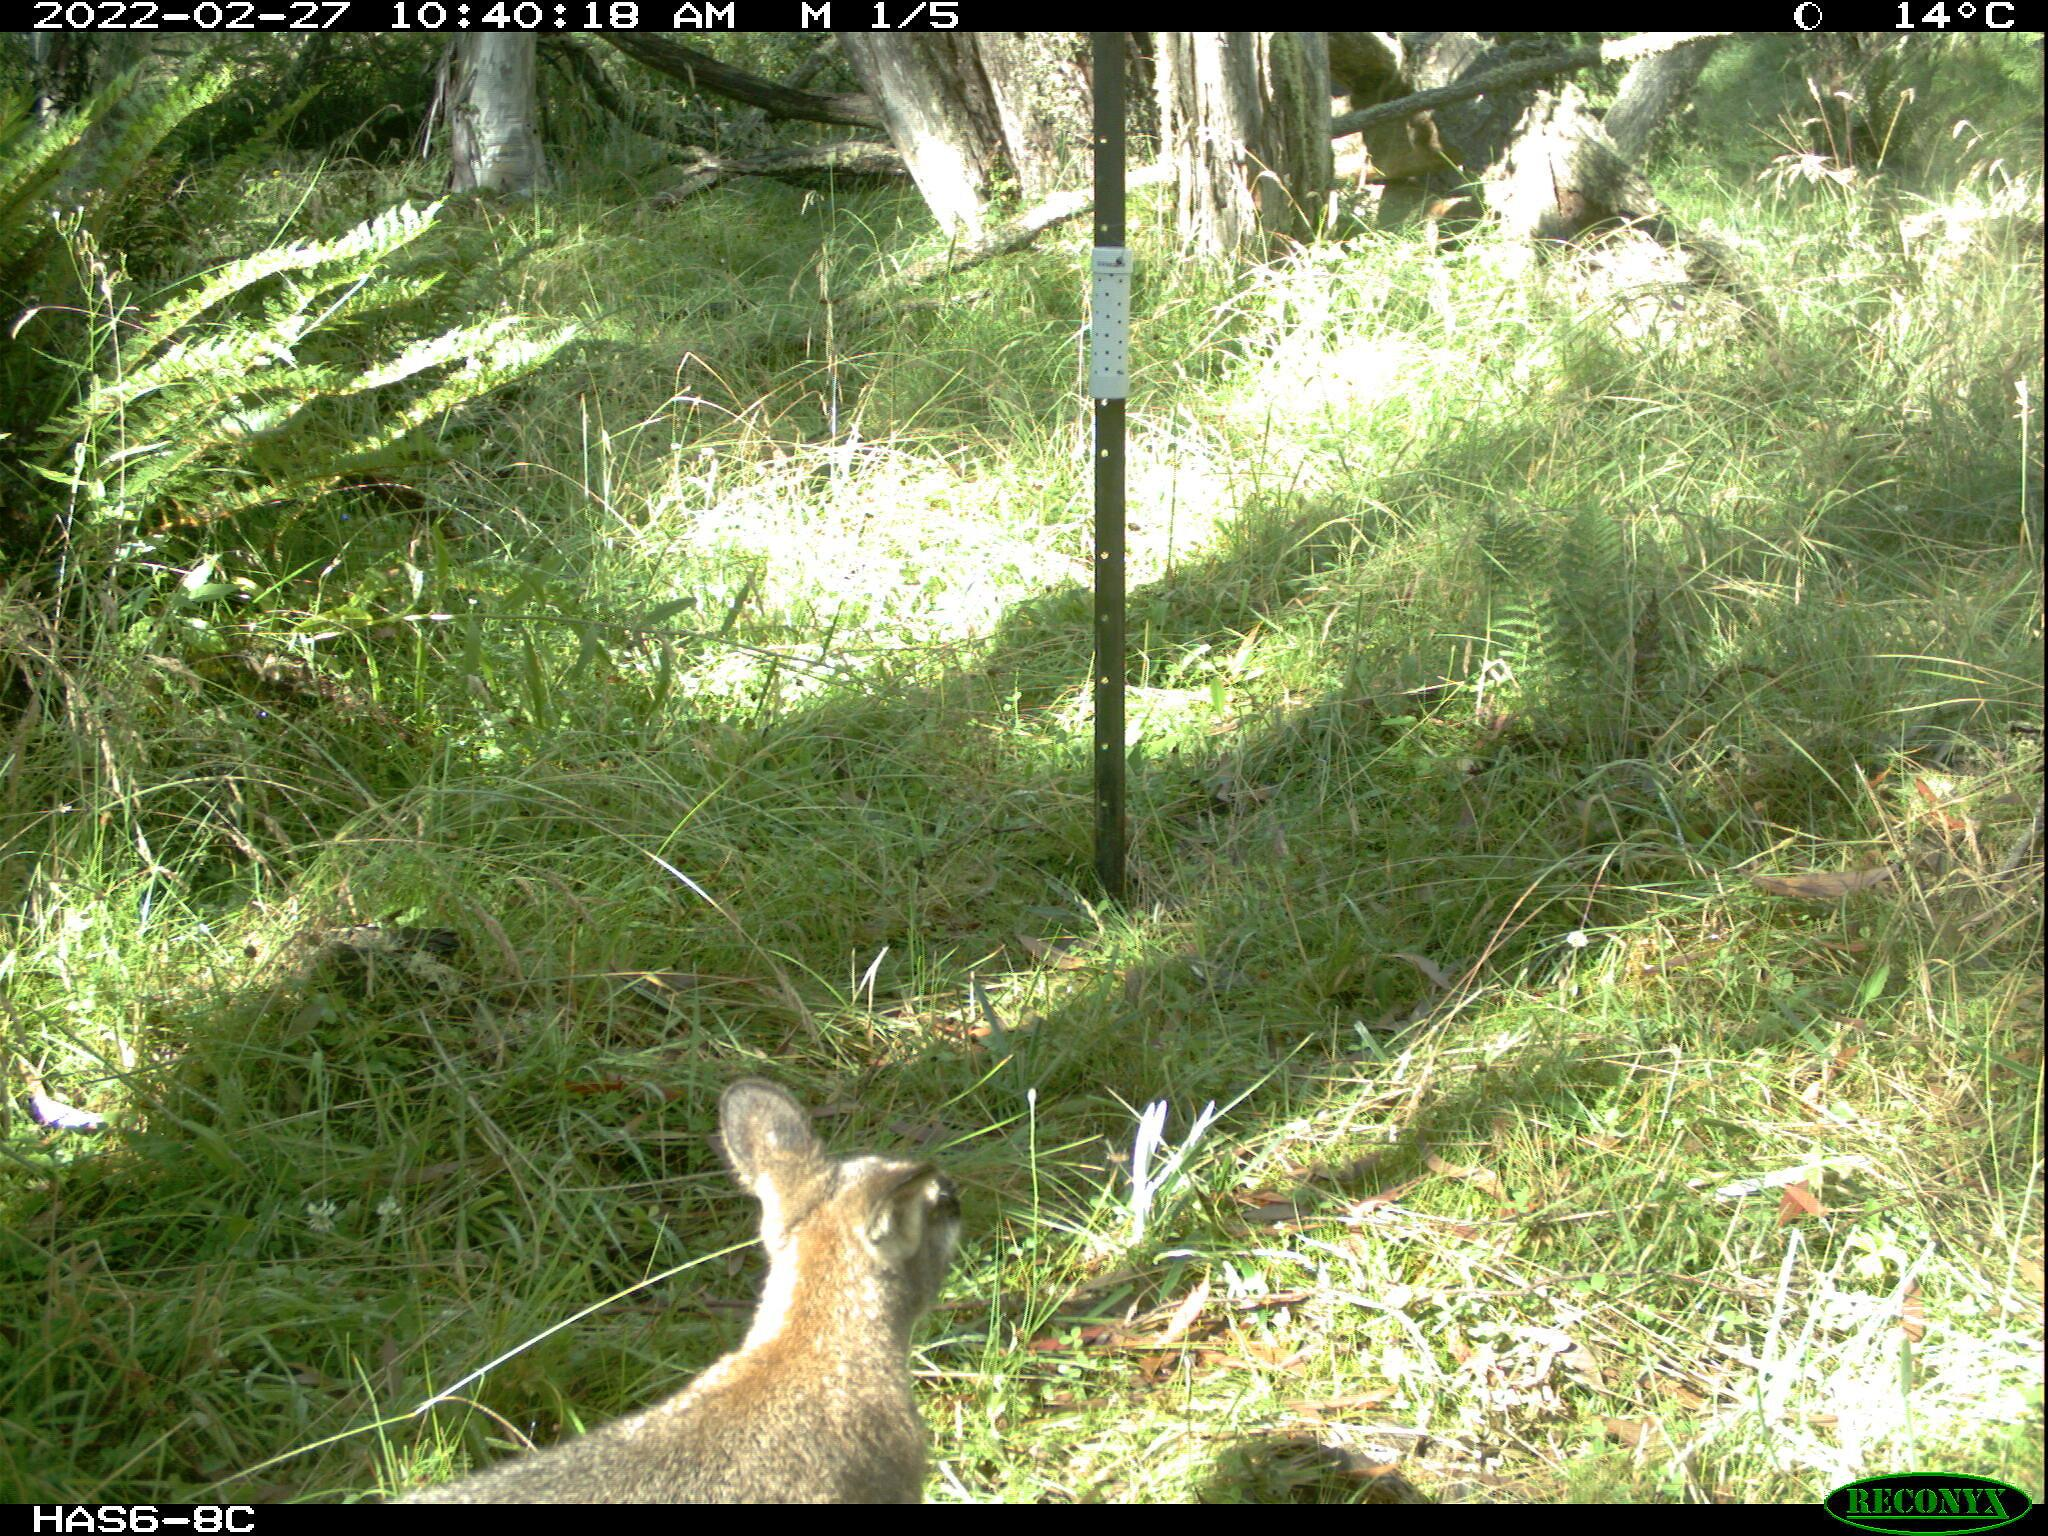Red-necked wallaby: (345, 1083, 971, 1502)
